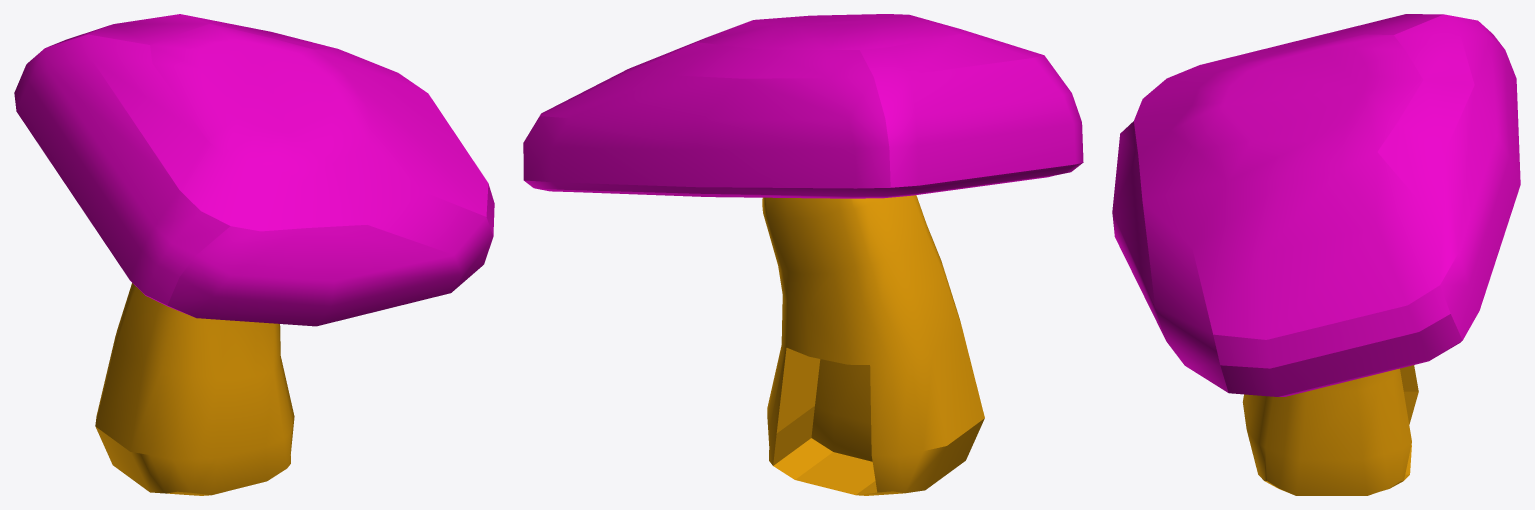
The model's file is MOD_MushroomFinish.fbx.
3 views of the same model, side by side, from view 1: azimuth 30°, elevation 25°; view 2: azimuth 150°, elevation 25°; view 3: azimuth 270°, elevation 25° (orthographic). The views are drawn at different scales.
Visible parts, largest first — view 1: pCube3; view 2: pCube3; view 3: pCube3.
Part boxes in pixels (x1,y1,x2,y2): pCube3: [14, 14, 494, 495]; pCube3: [523, 14, 1083, 495]; pCube3: [1112, 14, 1520, 495].
Bounding box in the file's own units: 8.03 × 7.87 × 6.83.
